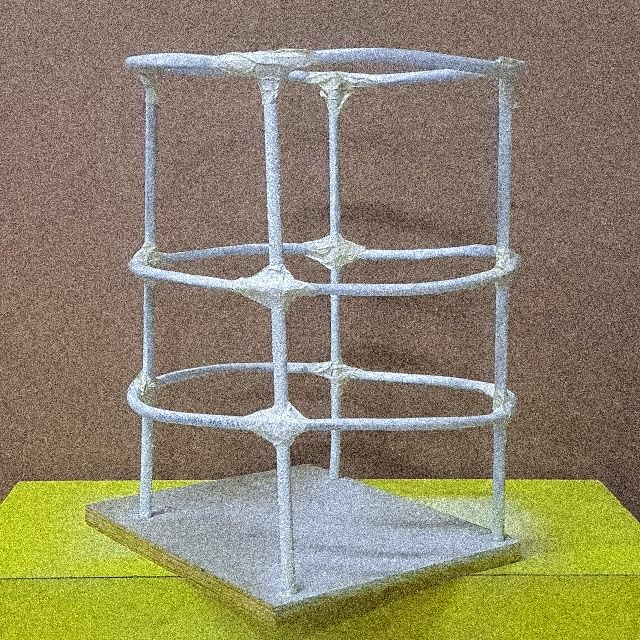silo: (102, 45, 539, 600)
